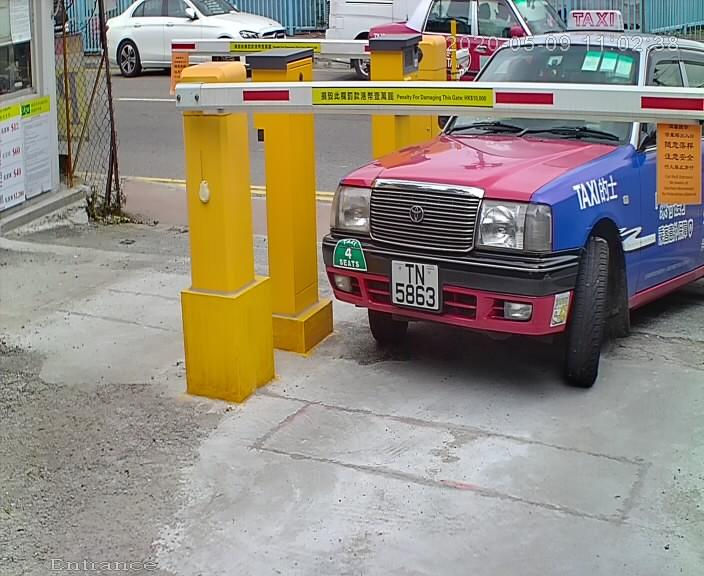Car: (252, 6, 661, 430)
License Plate: (397, 258, 444, 312)
